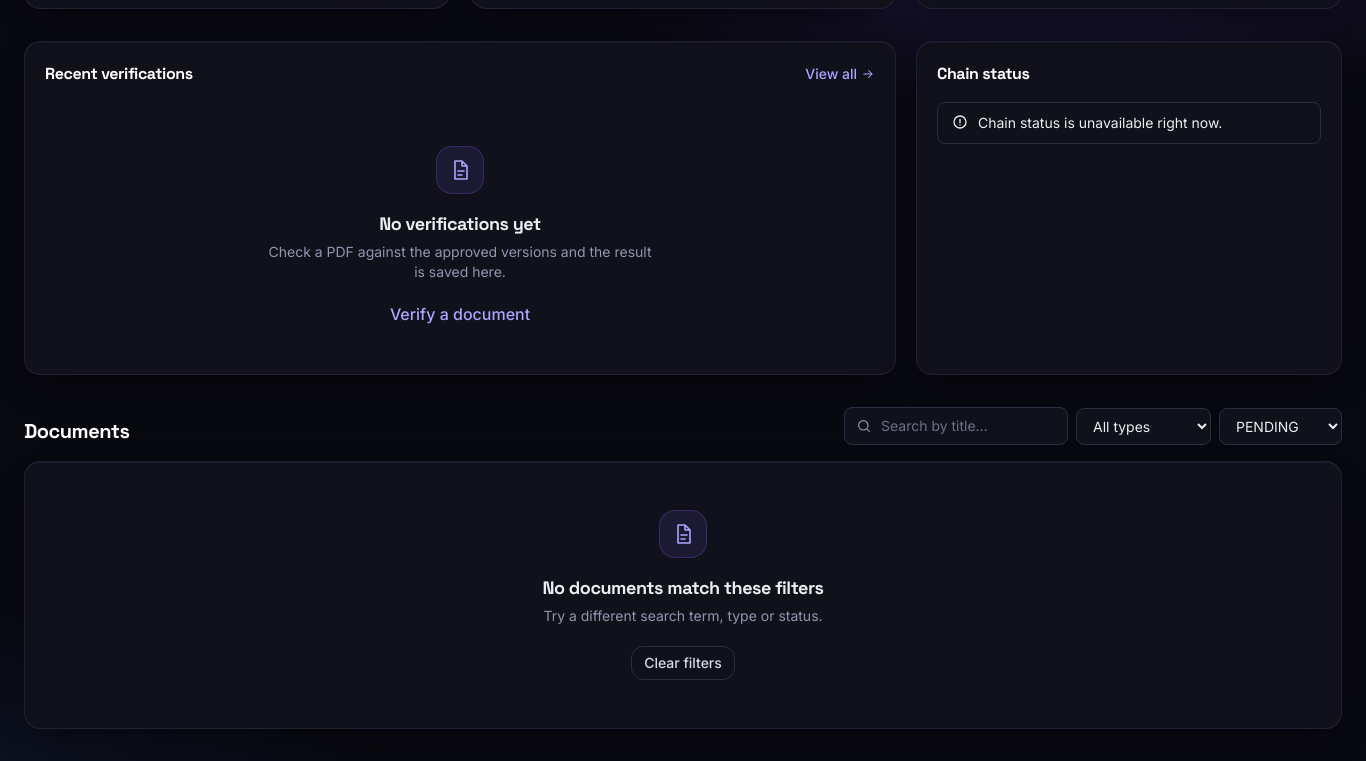
Test: Dashboard › explains an empty result under filters and offers to clear them
(page scrolled)
Expected: the text "No documents match these filters" is shown, left=542, top=574, right=824, bottom=602
What coordinates should you click on to do the following:
click the button "Clear filters"
I would click on:
 (683, 663)
Its box is left=631, top=646, right=735, bottom=680.
(page scrolled)
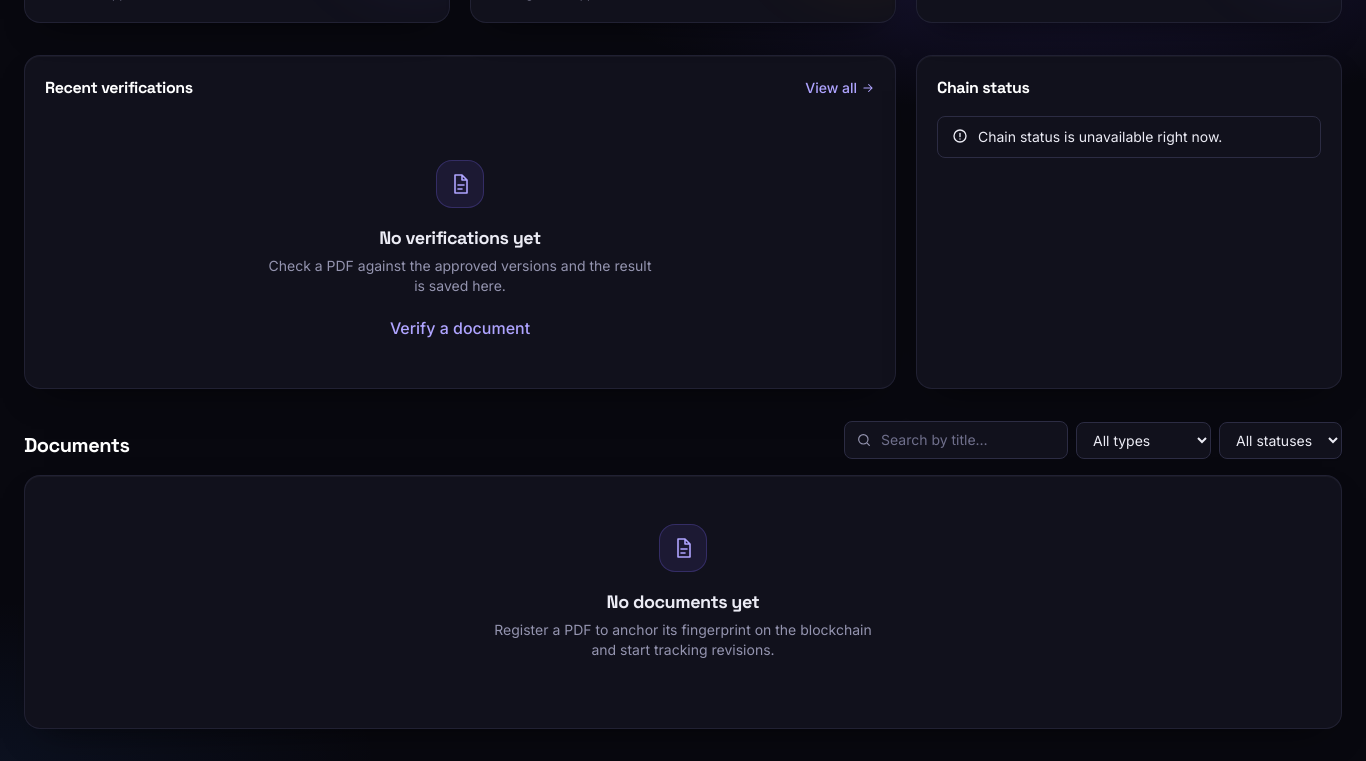
Result: the text "No documents yet" is shown at left=607, top=588, right=759, bottom=616
